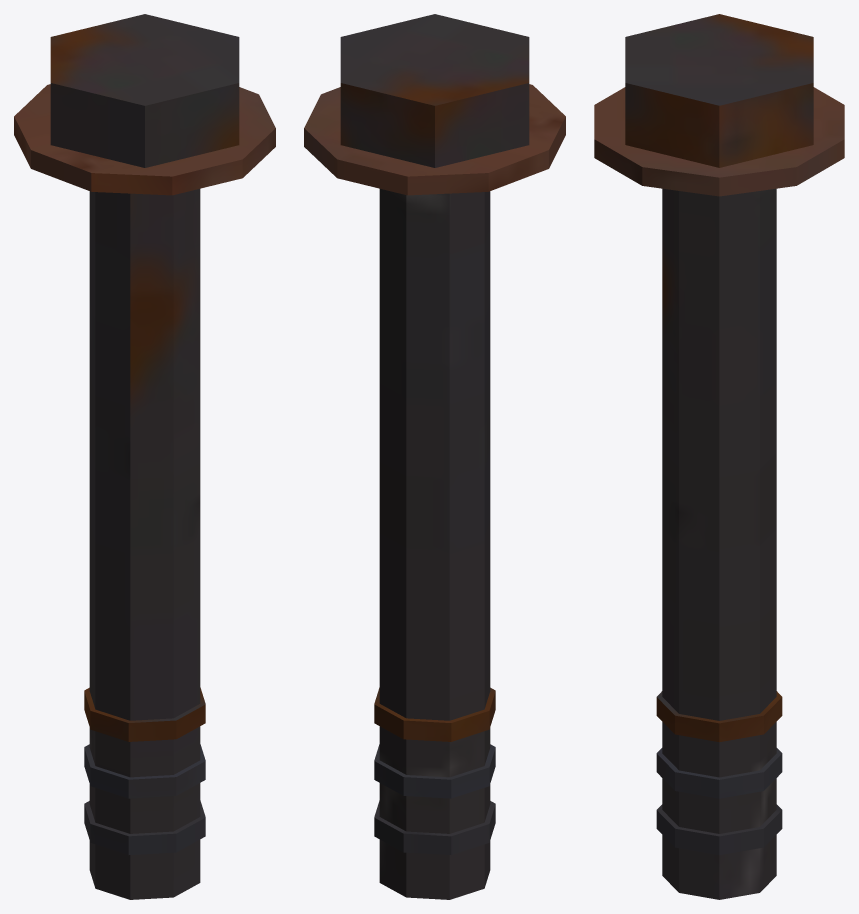
Rendered from Bolt.glb.
3 renders of one model, left to right at view 1: azimuth 30°, elevation 25°; view 2: azimuth 150°, elevation 25°; view 3: azimuth 270°, elevation 25°, orthographic.
Visible parts, largest first — view 1: Bolt; view 2: Bolt; view 3: Bolt.
Boxes of the visible parts, x1,y1,x2,y2 form: Bolt: [14, 14, 275, 899]; Bolt: [304, 14, 565, 899]; Bolt: [594, 14, 844, 899].
Size of the model in its own units: 0.0506 by 0.1732 by 0.0481.
Materials: 2 (2 with a texture image).
